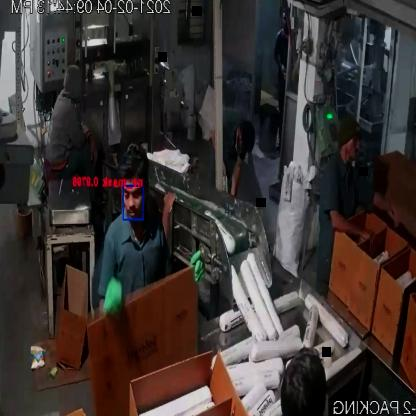glove: (104, 268, 126, 324), (186, 240, 205, 294)
no_glove: (324, 209, 375, 257), (366, 182, 402, 230), (157, 187, 176, 242)
